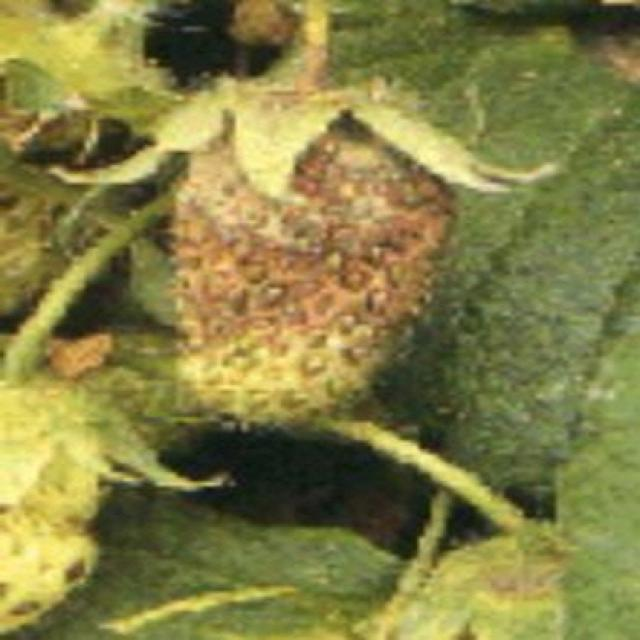Gray Mold: (170, 109, 461, 429)
